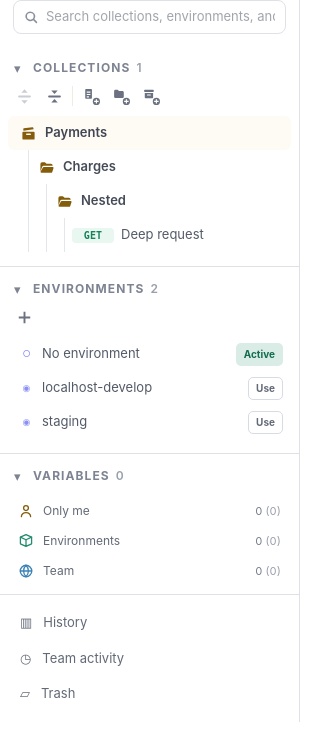
Test: environments in the sidebar tree › filters environments using the shared search and reports unmatched collections
In the field named "Search collections and environments and variables": (160, 17) [46, 7, 275, 27], type "stag"
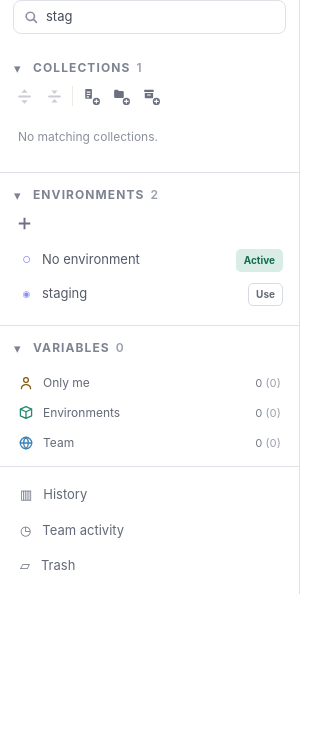
Expected: the button titled "staging" is shown, [42, 278, 241, 310]
Result: the button titled "localhost-develop" is gone
Result: the text "No matching collections." is shown at [18, 129, 158, 144]
